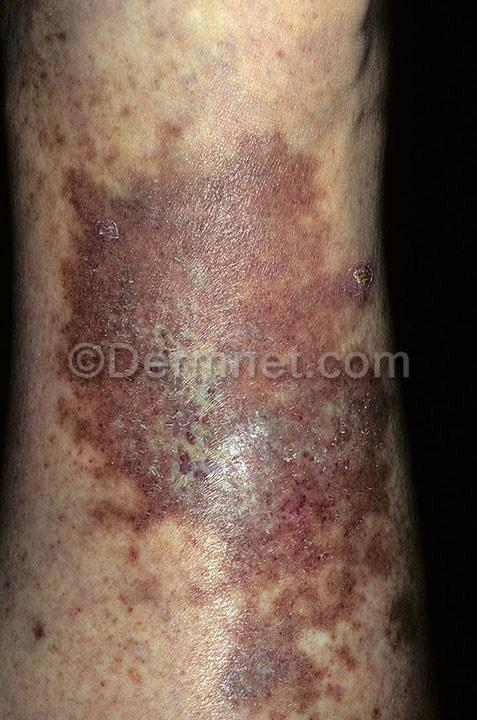Eczema: (42, 378, 397, 700), (50, 139, 379, 340)
